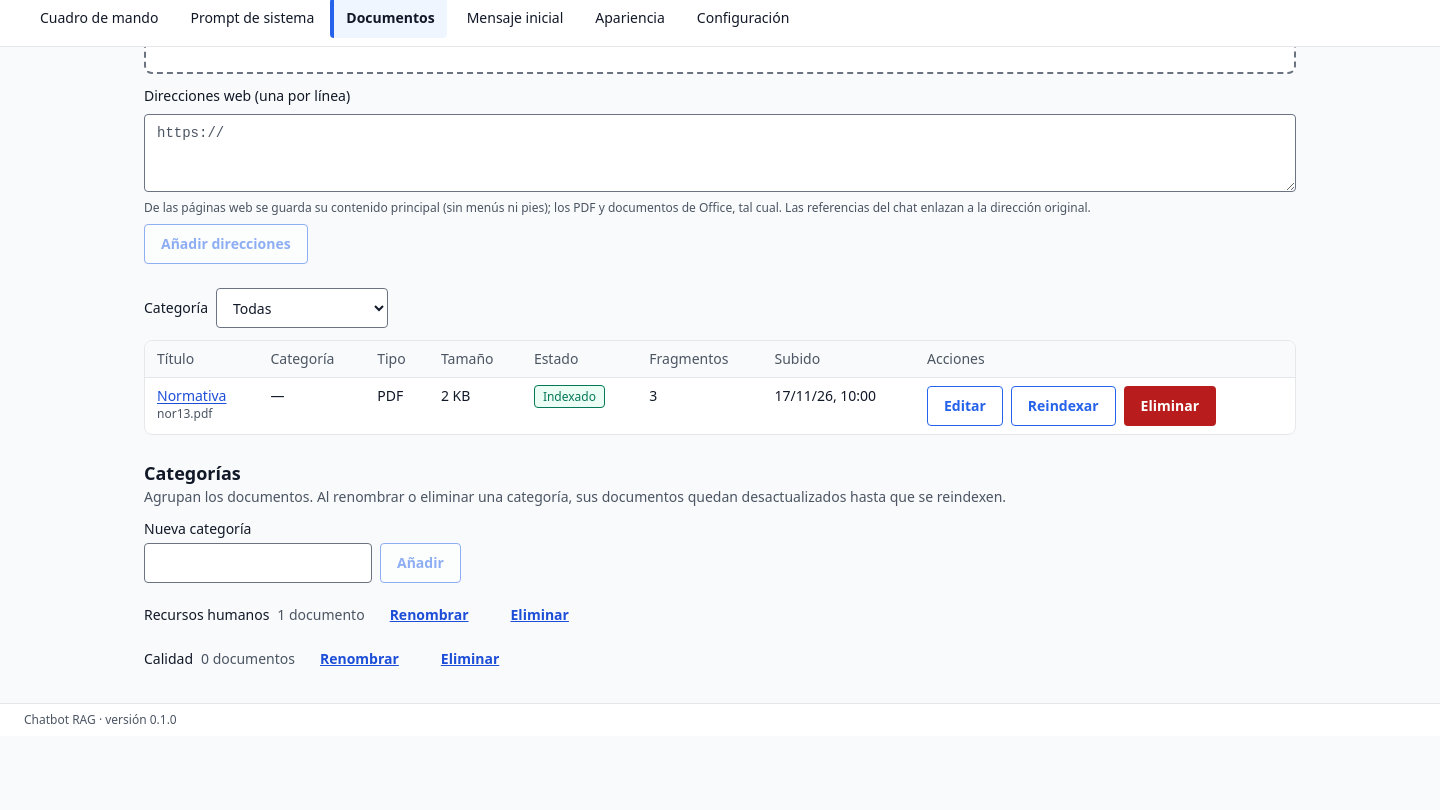
Test: DocumentsPage › edita el título y la categoría de un documento
(page scrolled)
Step 1. Click the button with aria-label "Editar: Normativa" → coordinates (965, 406), box [927,386,1003,426]
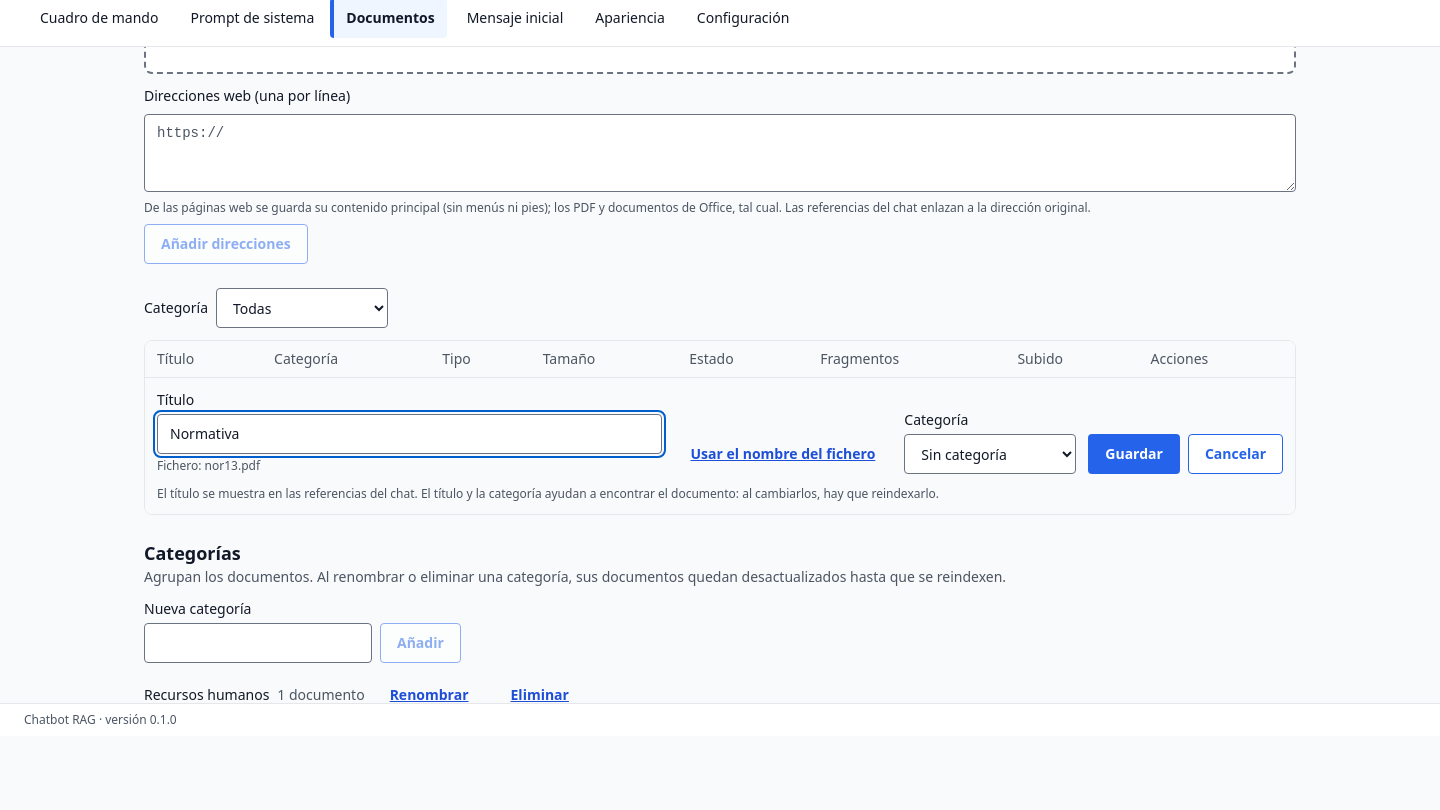
Step 2. Click the button "Usar el nombre del fichero" → coordinates (783, 454), box [674,434,892,474]
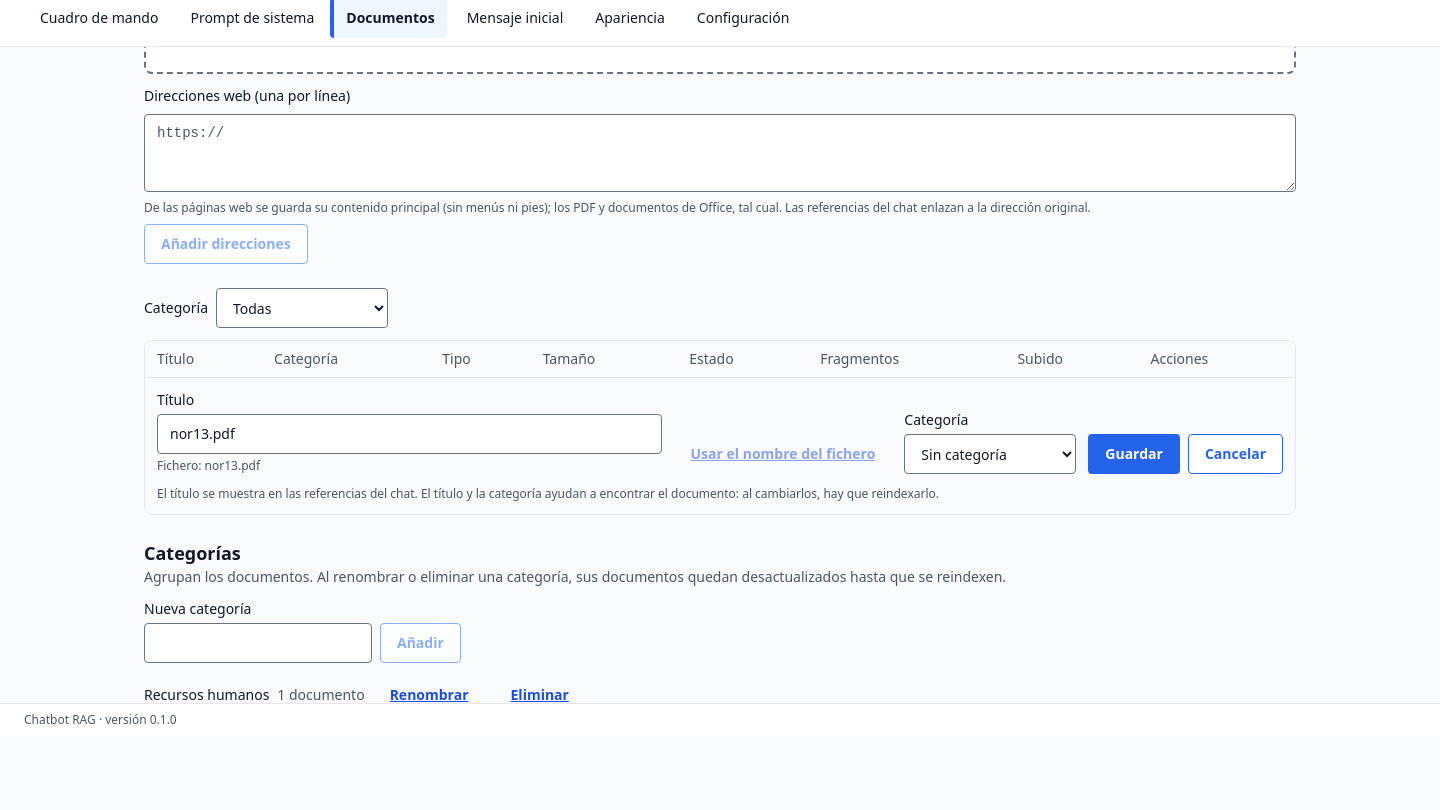
Expected: the field labelled "Título" holds "nor13.pdf"
Step 3. Replace the text in the field labelled "Título" with "  Normativa de acceso " → coordinates (409, 434), box [157,414,662,454]
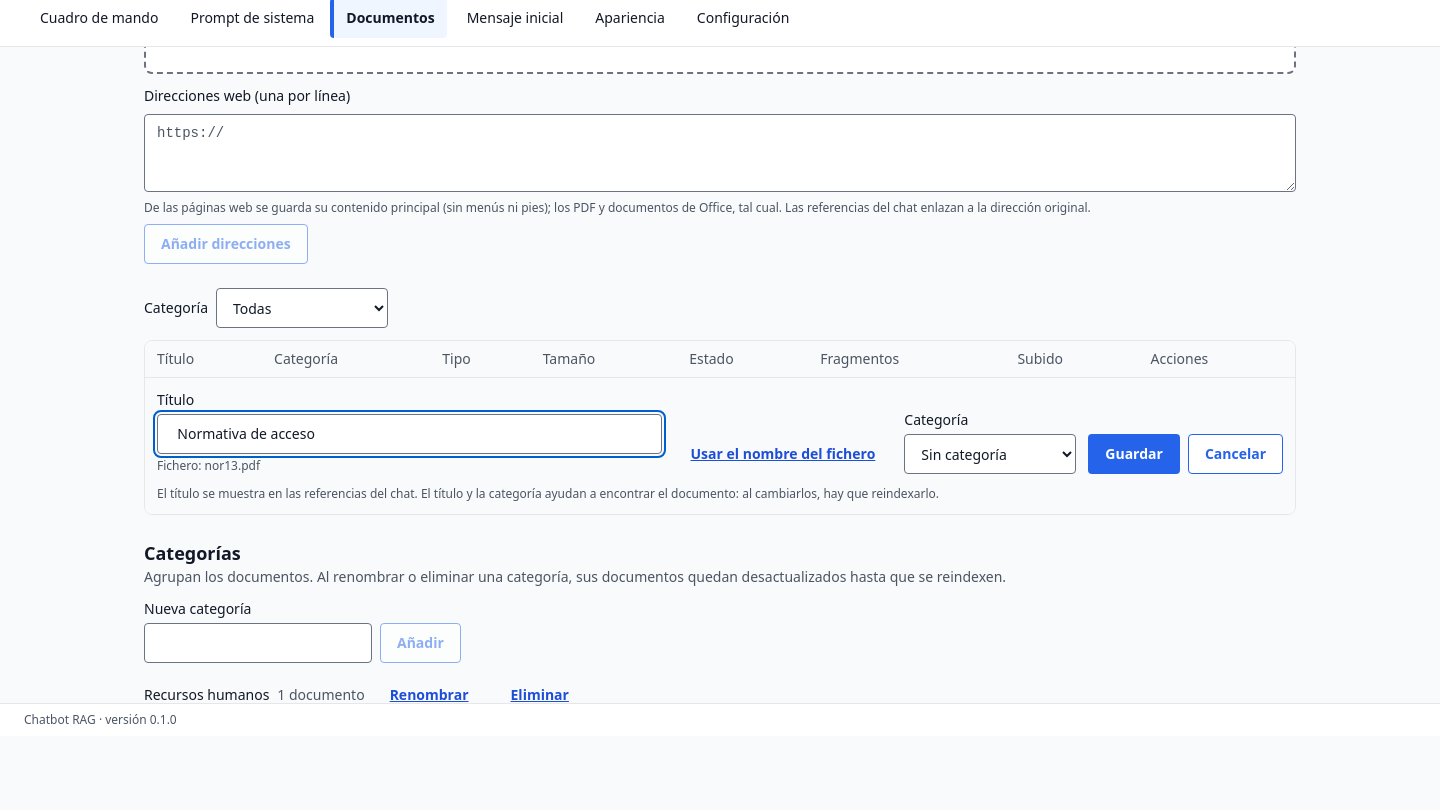
Step 4. Select "Calidad" in the dropdown labelled "Categoría" in the row of "Fichero: nor13.pdf" → coordinates (990, 454), box [904,434,1076,474]
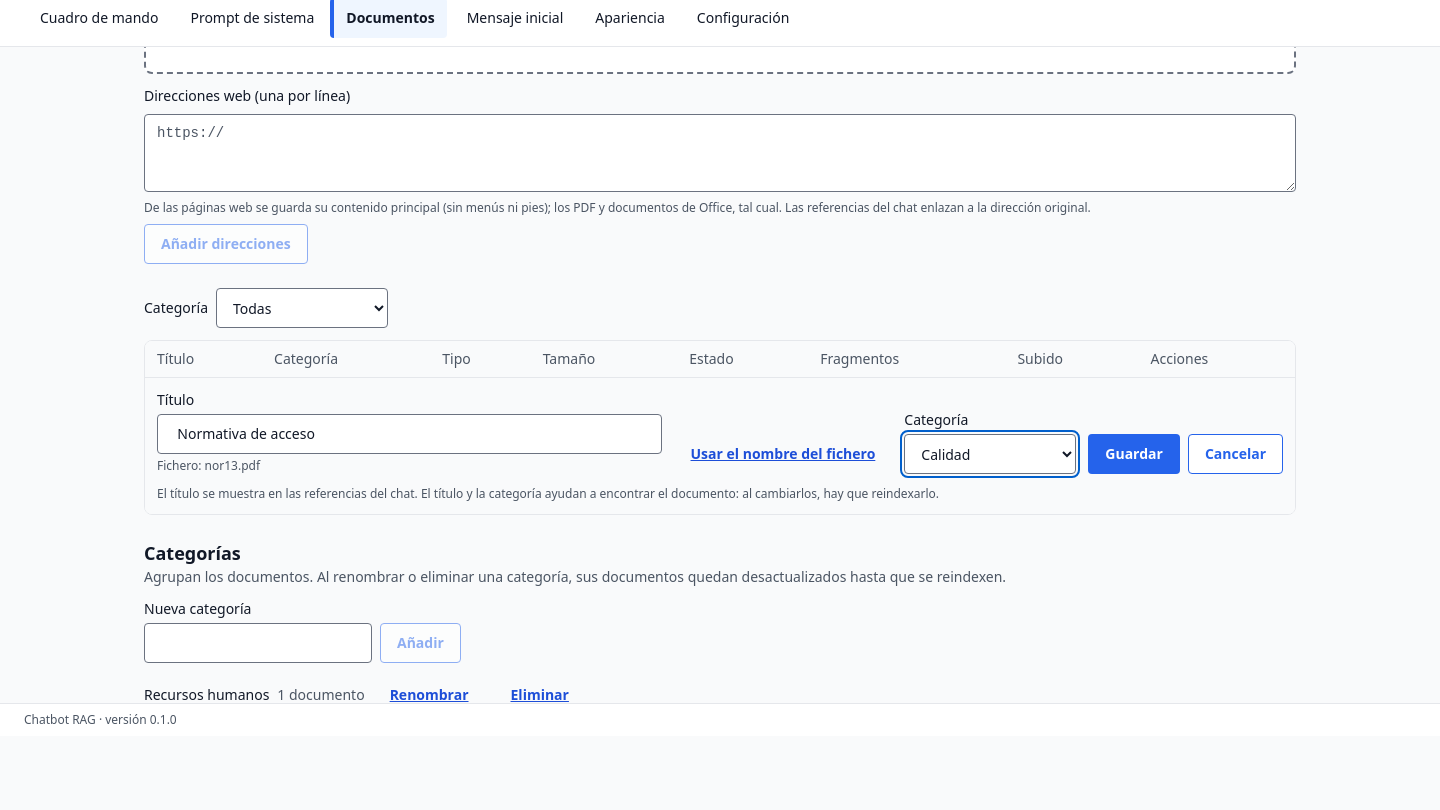
Step 5. Click the button "Guardar" → coordinates (1134, 454), box [1088,434,1180,474]
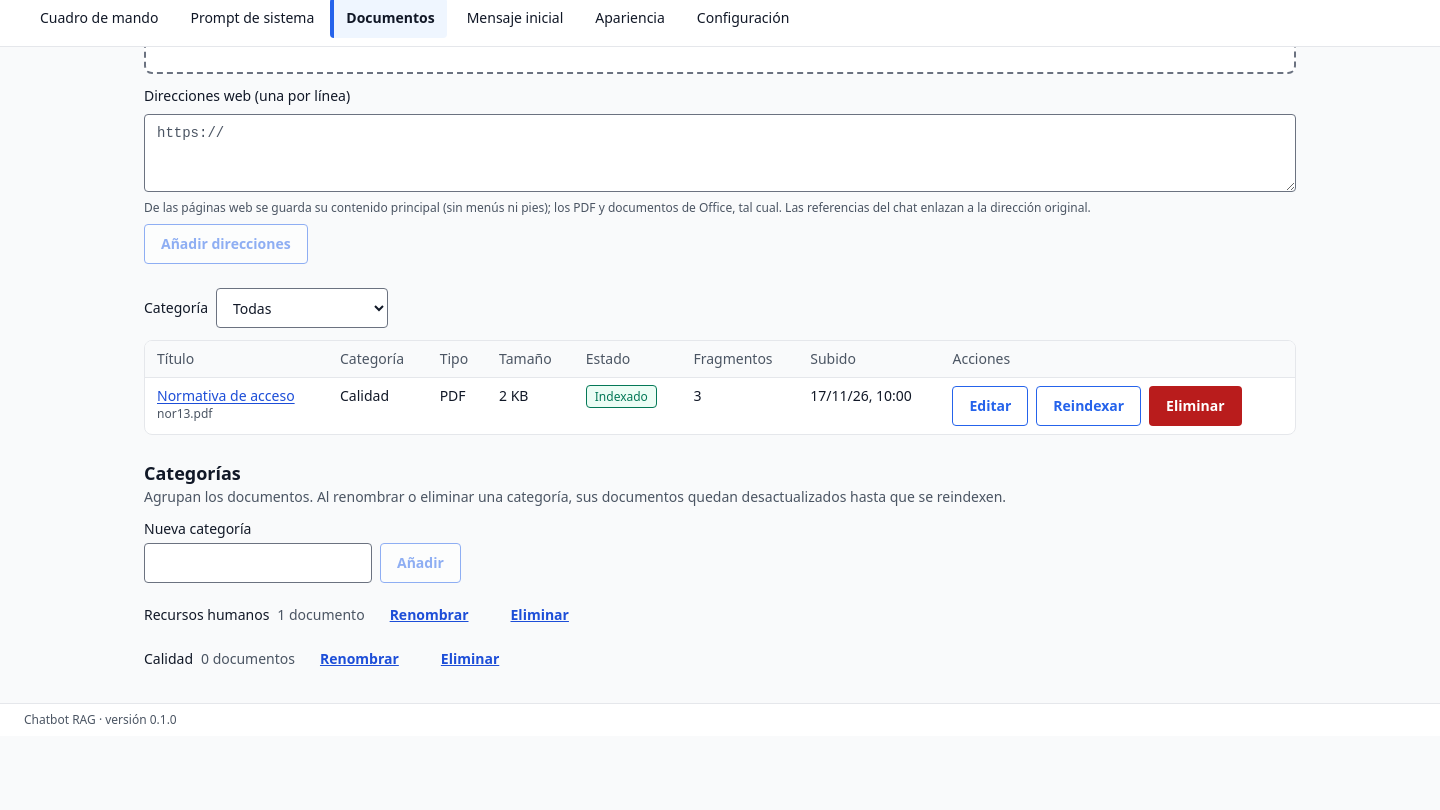
Expected: the row "Normativa de acceso" shows "Calidad", [340,386,389,405]
